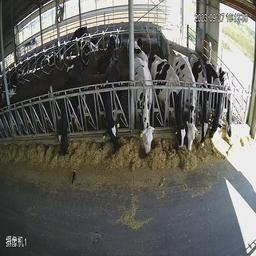cow: (48, 58, 90, 161), (151, 52, 188, 167), (173, 49, 201, 159), (134, 51, 157, 166), (102, 52, 127, 152), (191, 54, 213, 154), (204, 61, 226, 152), (219, 62, 238, 143), (71, 17, 91, 52)
